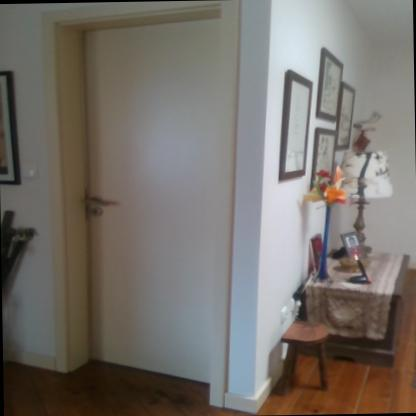closed: (41, 0, 260, 412)
